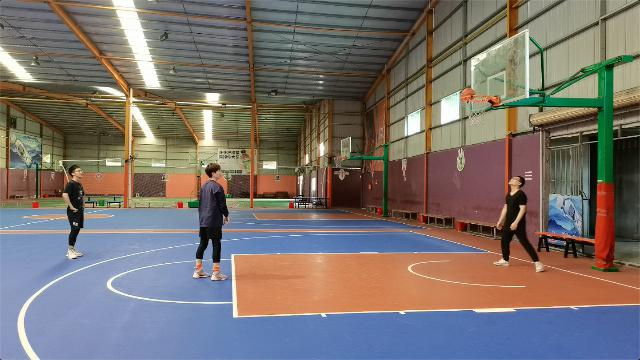ball: (461, 87, 475, 100)
basket: (460, 93, 490, 125)
